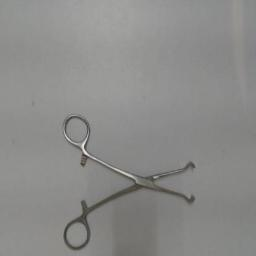Babcock Tissue Forceps: (60, 112, 198, 252)
